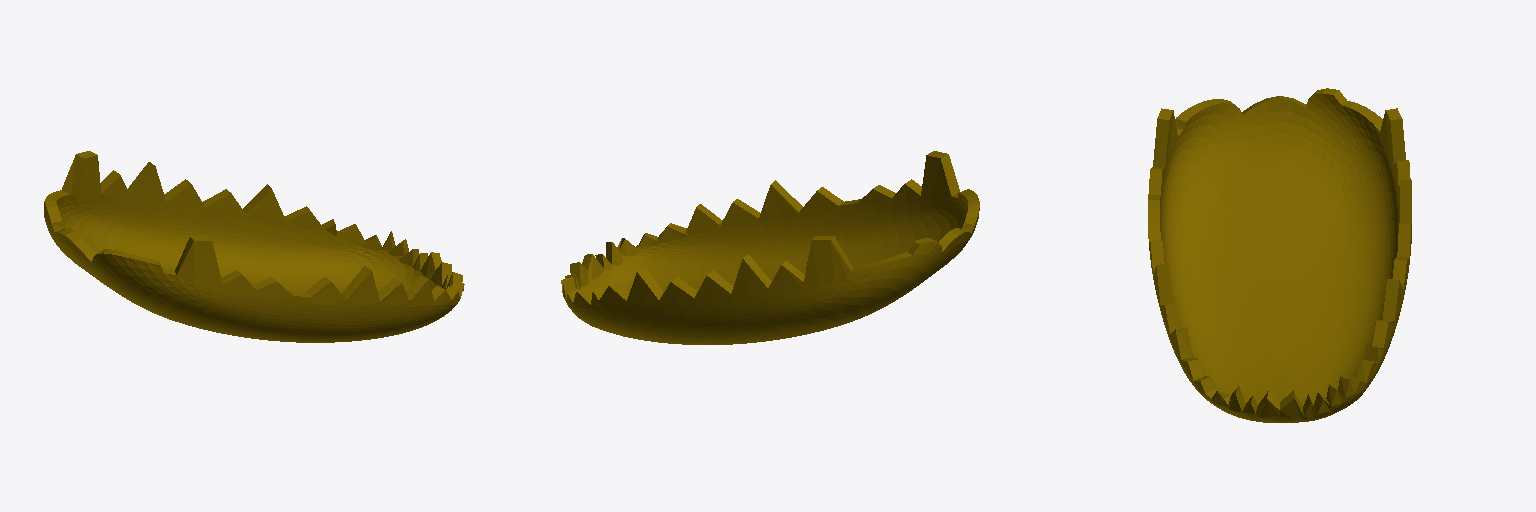
The model's file is goddard_mandibula-inferior.obj.
The picture shows the model from 3 angles: view 1: azimuth 30°, elevation 25°; view 2: azimuth 150°, elevation 25°; view 3: azimuth 270°, elevation 25°; orthographic projection.
Visible parts, largest first — view 1: goddard_mandibula_inferior; view 2: goddard_mandibula_inferior; view 3: goddard_mandibula_inferior.
Part boxes in pixels (x1,y1,x2,y2): goddard_mandibula_inferior: (44, 151, 464, 342); goddard_mandibula_inferior: (561, 151, 979, 344); goddard_mandibula_inferior: (1148, 88, 1411, 422).
Bounding box in the file's own units: 2.68 × 1.19 × 1.61.